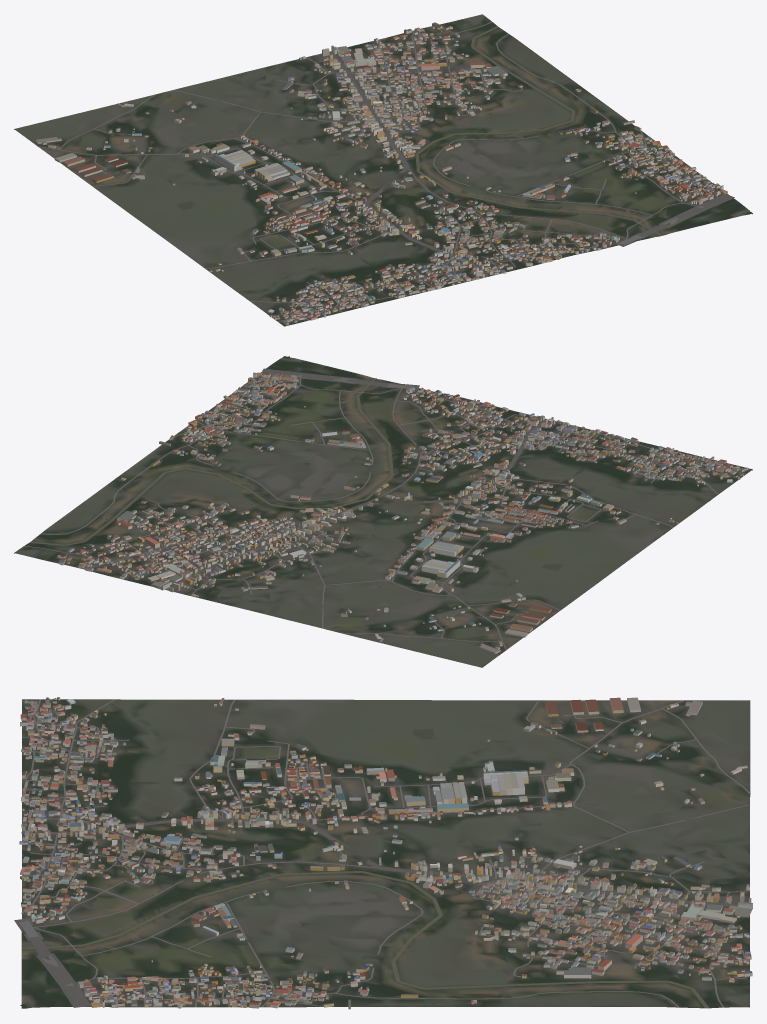
The picture shows the model from 3 angles, top to bottom: view 1: azimuth 30°, elevation 25°; view 2: azimuth 150°, elevation 25°; view 3: azimuth 270°, elevation 25°; orthographic projection. The views are drawn at different scales.
Visible parts, largest first — view 1: ground, buildings, roads, water; view 2: ground, buildings, roads, water; view 3: ground, buildings, roads, water.
Boxes of the visible parts, x1,y1,x2,y2 form: ground: [14, 14, 752, 326]; buildings: [36, 22, 727, 324]; roads: [38, 21, 734, 325]; water: [177, 26, 751, 235]; ground: [14, 357, 752, 667]; buildings: [57, 372, 747, 653]; roads: [24, 368, 750, 650]; water: [30, 356, 561, 570]; ground: [21, 699, 750, 1008]; buildings: [19, 697, 752, 1009]; roads: [14, 699, 750, 1007]; water: [20, 729, 708, 1008].
Size of the model in its own units: 1414 by 24.41 by 1423.
